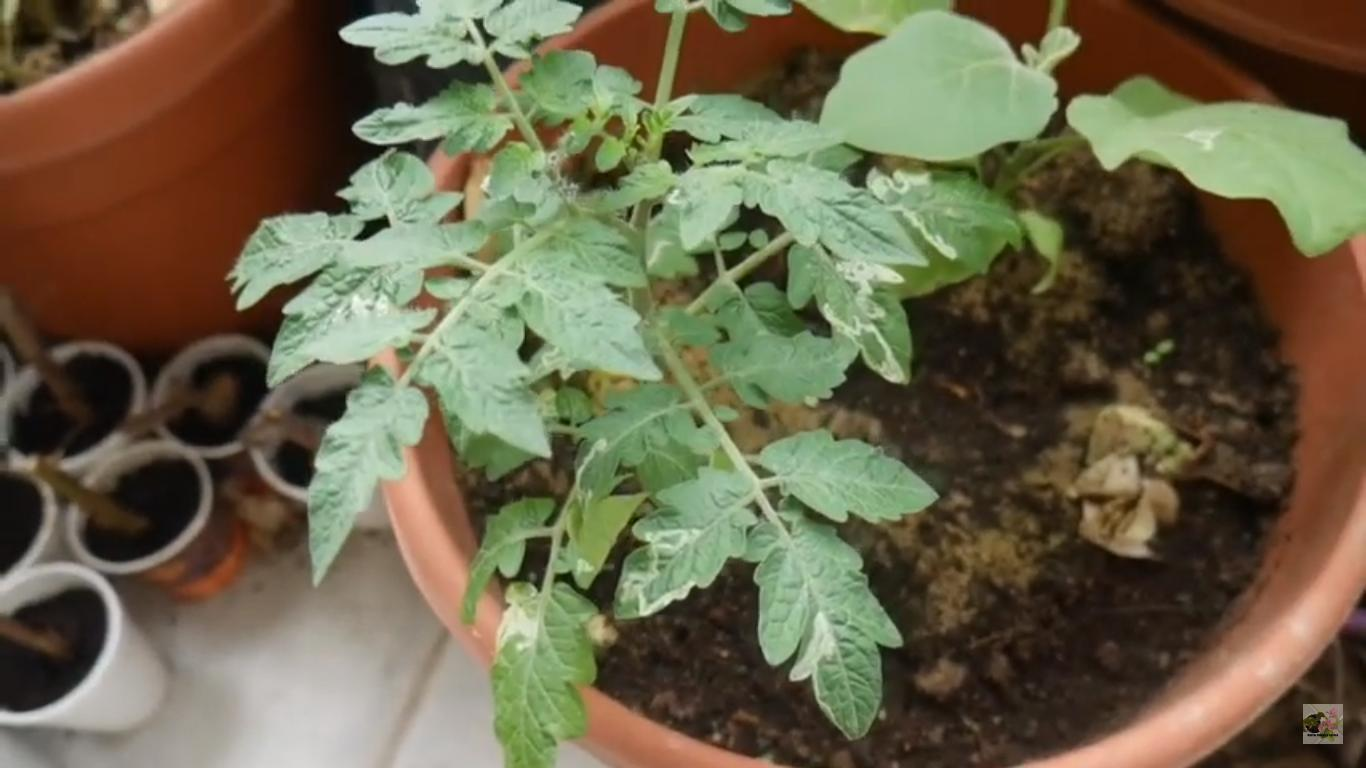Leaf_Miner: (756, 519, 902, 743), (613, 468, 760, 626), (866, 169, 1024, 301), (490, 578, 599, 768), (788, 241, 914, 388), (569, 386, 696, 511)
